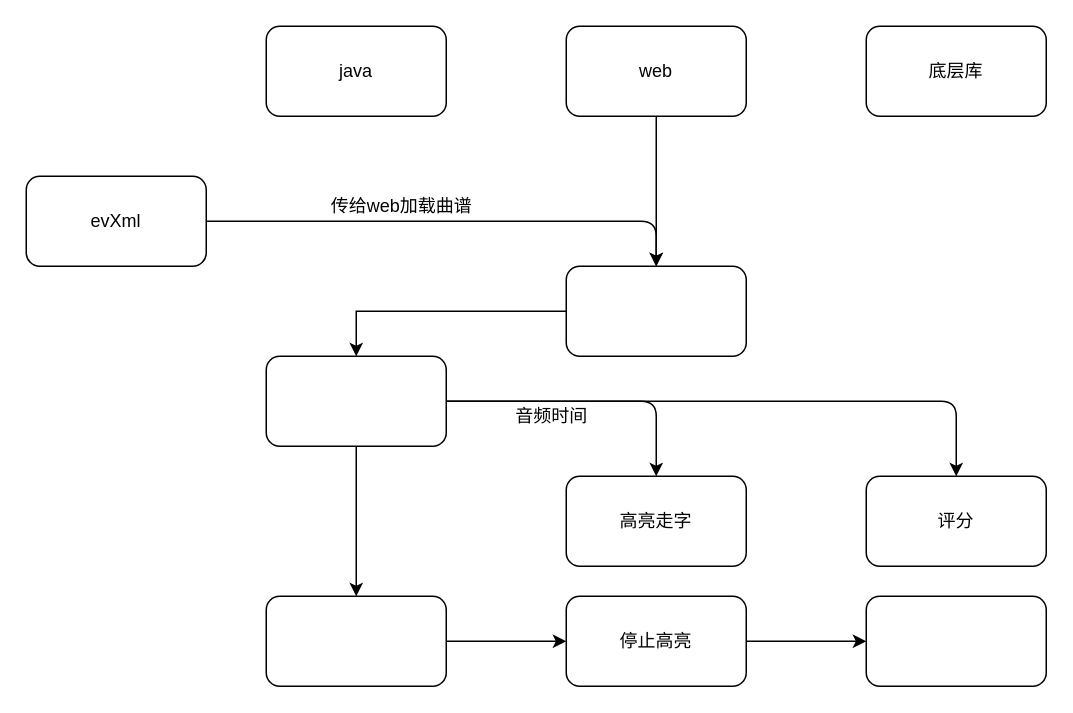
This 1073x713 diagram has some shape labels left out. Each missing label, with the centre of its shape:
"播放结束 停止录音 停止评分" goes at pixel 355 640.
"曲谱显示" goes at pixel 655 310.
"生成eur" goes at pixel 955 640.
"音频播放 开始录音 开始评分" goes at pixel 355 400.
